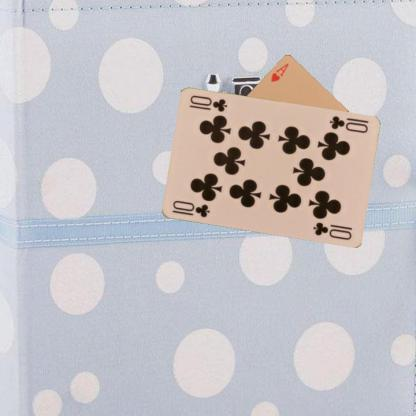10c: (326, 113, 370, 135), (170, 198, 211, 219)
Ah: (268, 61, 290, 83)
